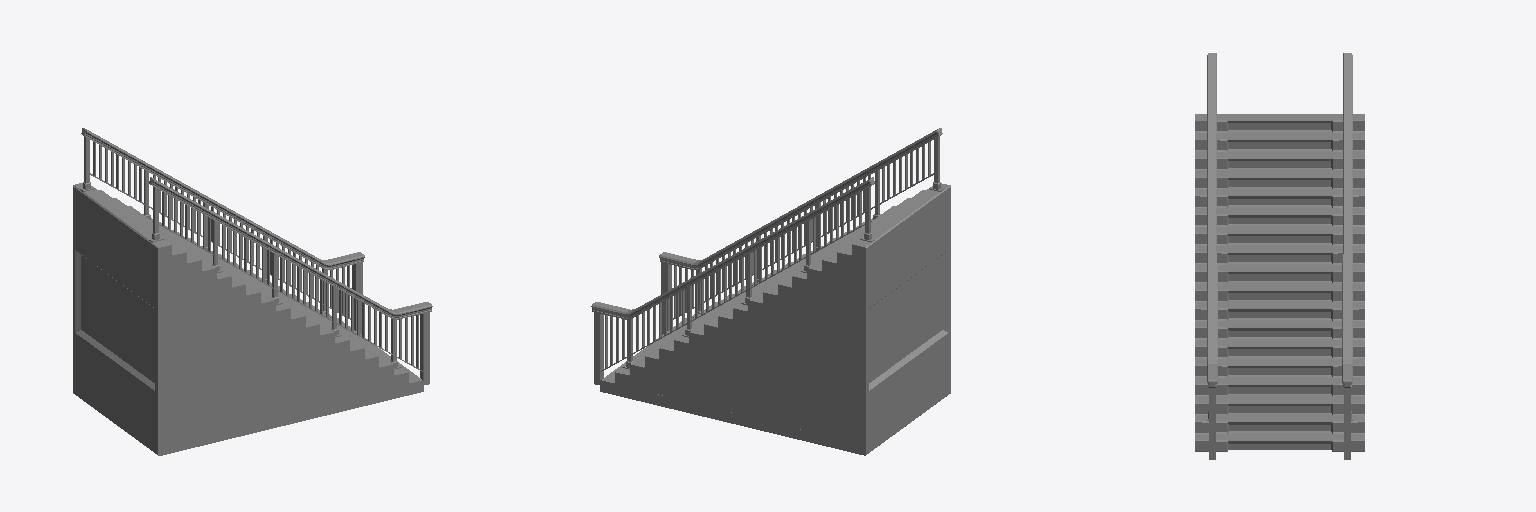
The model's file is subway-stairs.obj.
3 renders of one model, left to right at view 1: azimuth 30°, elevation 25°; view 2: azimuth 150°, elevation 25°; view 3: azimuth 270°, elevation 25°, orthographic.
Parts seen in each view (by area): view 1: Box007_Mesh.005; view 2: Box007_Mesh.005; view 3: Box007_Mesh.005.
Boxes of the visible parts, <box> form: Box007_Mesh.005: <box>73,128,432,455</box>; Box007_Mesh.005: <box>591,128,950,455</box>; Box007_Mesh.005: <box>1195,53,1364,459</box>.
Bounding box in the file's own units: 7.6 × 7.02 × 4.